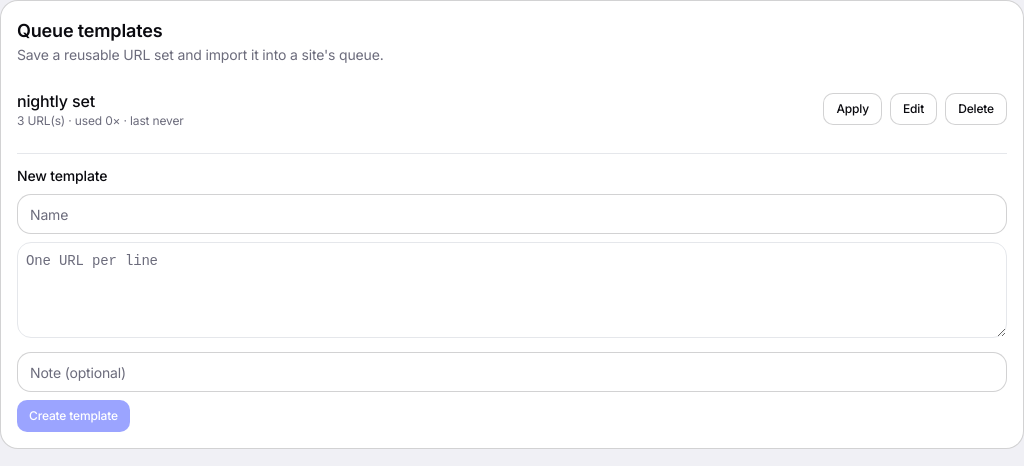
it: QueueTemplatesPanel wires the dark queue_templates cluster › cannot create a template with no name (backend 400s on empty)
The width and height of the screenshot is (1024, 466).
expect the text "nightly set" is shown: met, box [17, 91, 95, 111]
expect the button "Create template" is disabled: met, box [17, 400, 130, 432]
Type "set b" into the field named "Template name" at (512, 214), box [17, 194, 1007, 234]
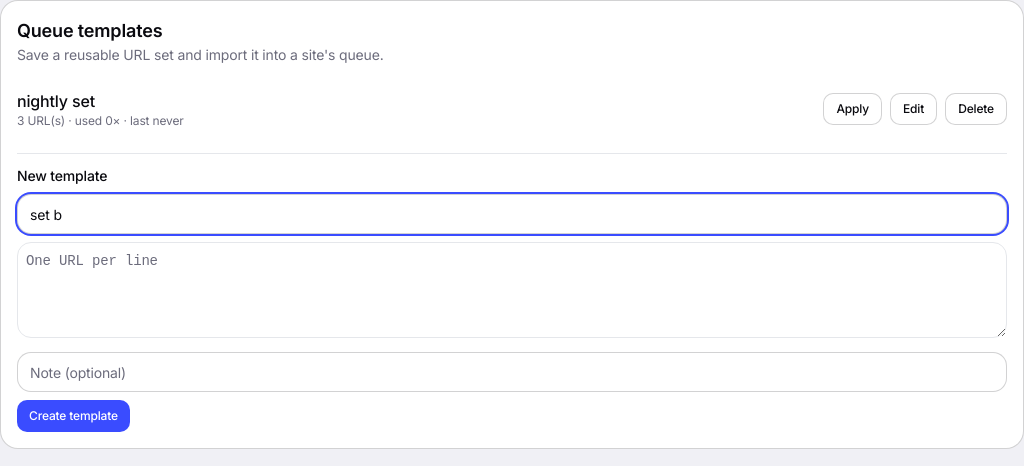
expect the button "Create template" is enabled: met, box [17, 400, 130, 432]
